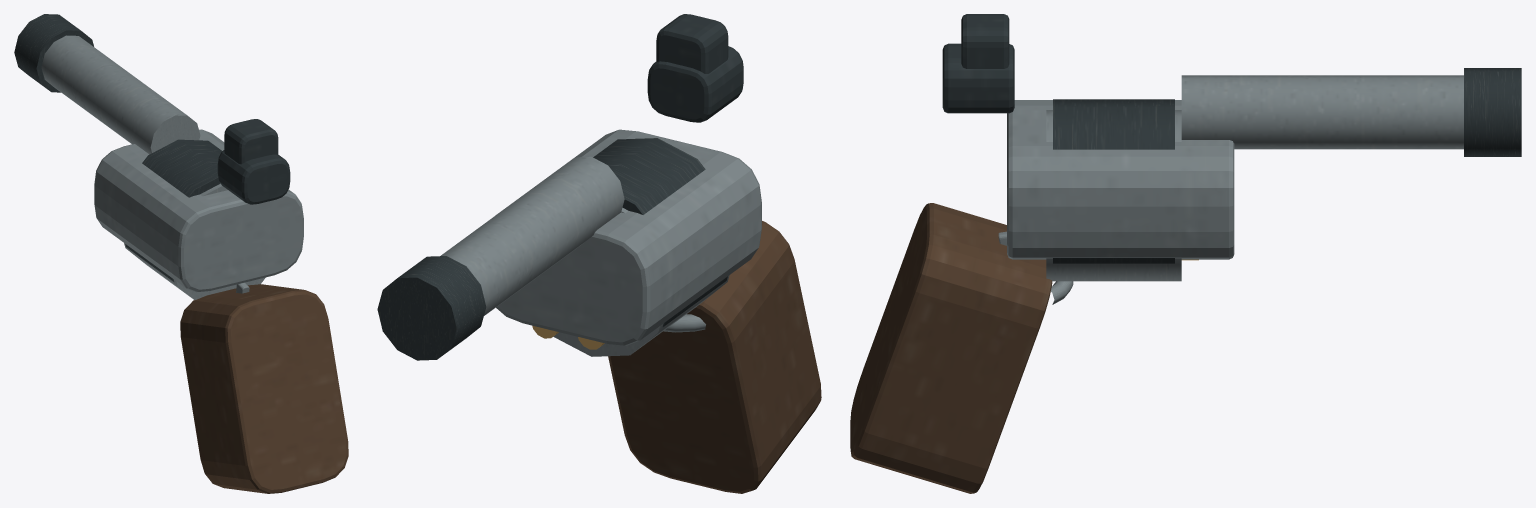
File: revolver.glb
The picture shows the model from 3 angles, left to right: view 1: azimuth 30°, elevation 25°; view 2: azimuth 150°, elevation 25°; view 3: azimuth 270°, elevation 25°; orthographic projection. The views are drawn at different scales.
Parts seen in each view (by area): view 1: first-person-revolver; view 2: first-person-revolver; view 3: first-person-revolver.
Part boxes in pixels (<box>): first-person-revolver: <box>14,14,348,493</box>; first-person-revolver: <box>377,14,821,493</box>; first-person-revolver: <box>850,14,1521,493</box>.
Bounding box in the file's own units: 0.276 × 0.7398 × 0.9921.
4 materials, 3 textured.
